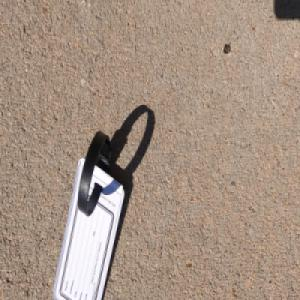LuggageTag: (52, 127, 125, 300)
